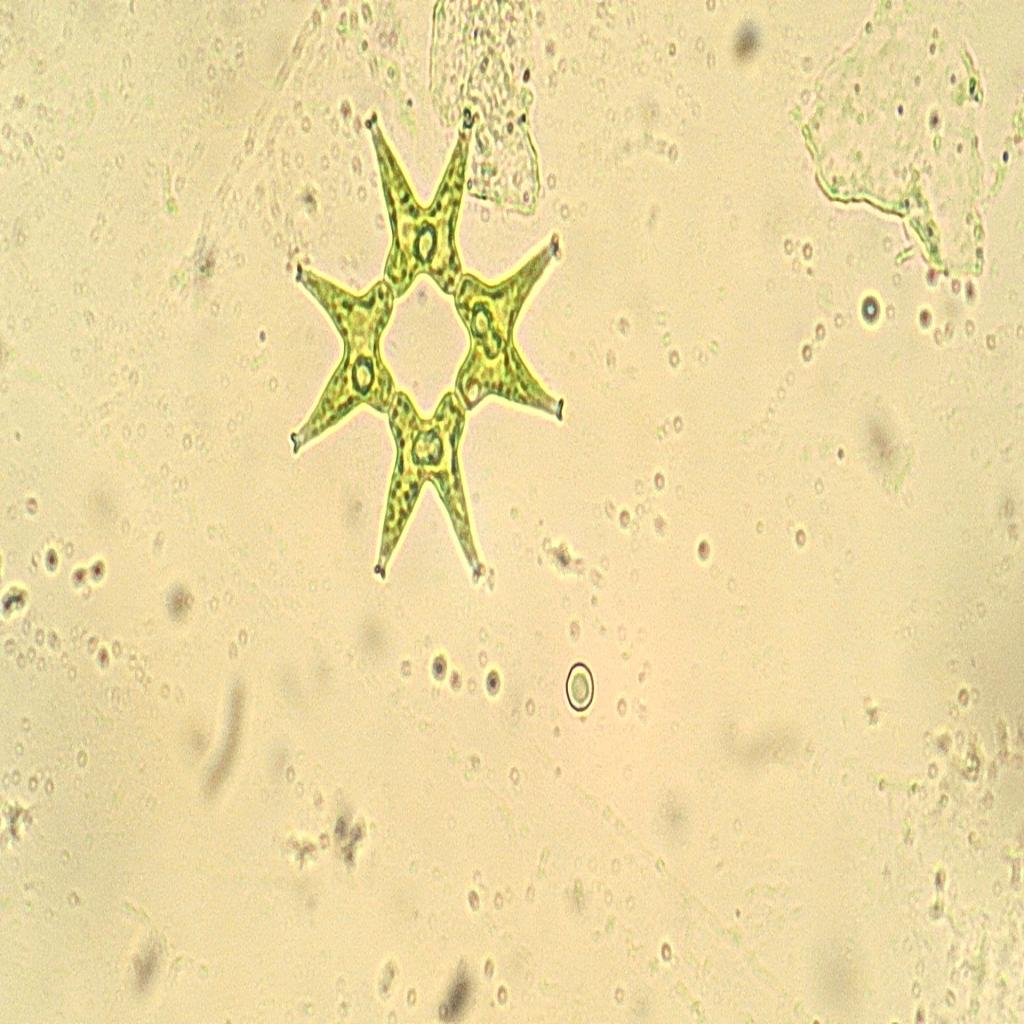Pediastrum_75O: (268, 86, 581, 613)
